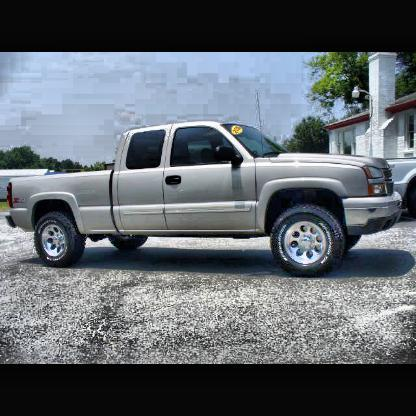Chevrolet Silverado 1500 Classic Extended Cab 2007: (2, 116, 411, 289)
